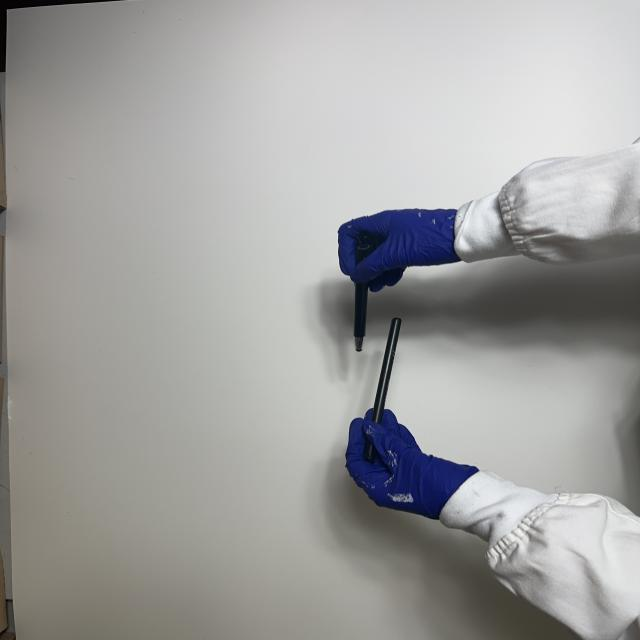gloves_contaminated: (346, 409, 478, 519), (338, 209, 461, 292)
